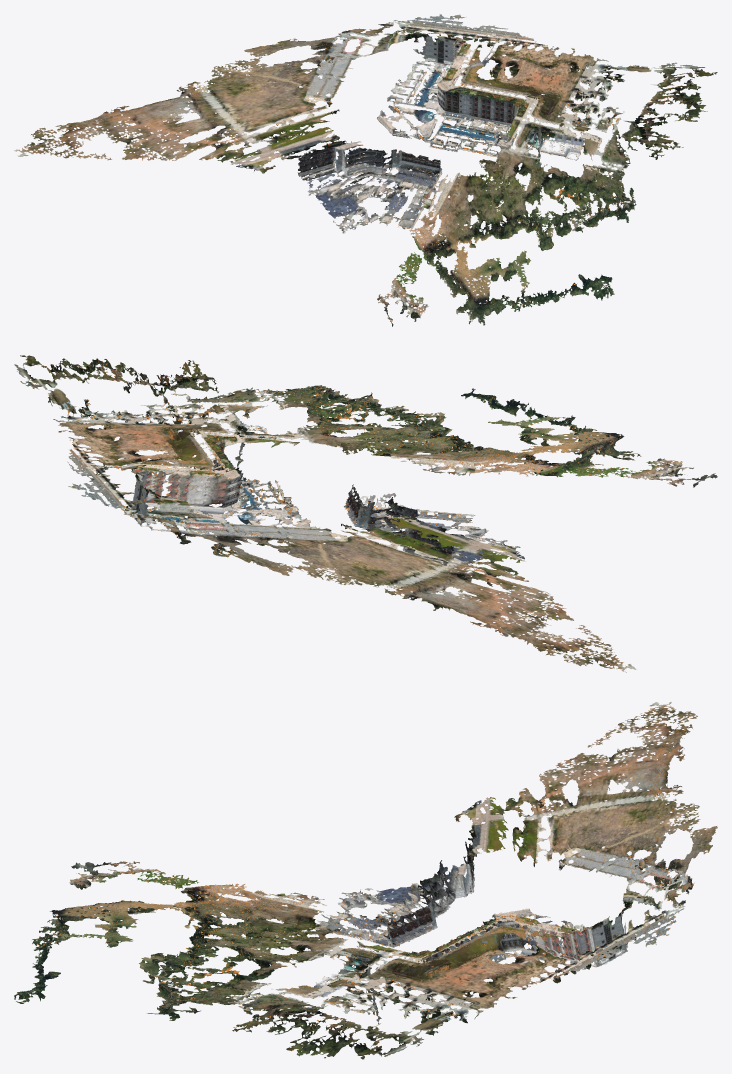
The model's file is hybrid_fast_textured.glb.
3 views of the same model, one above another, from view 1: azimuth 30°, elevation 25°; view 2: azimuth 150°, elevation 25°; view 3: azimuth 270°, elevation 25° (orthographic). The views are drawn at different scales.
Parts seen in each view (by area): view 1: node; view 2: node; view 3: node.
Part boxes in pixels (<box>): node: <box>14,14,717,326</box>; node: <box>14,355,717,672</box>; node: <box>14,702,717,1059</box>.
Size of the model in its own units: 30.56 by 4.76 by 23.59.
Materials: 1 (1 with a texture image).
